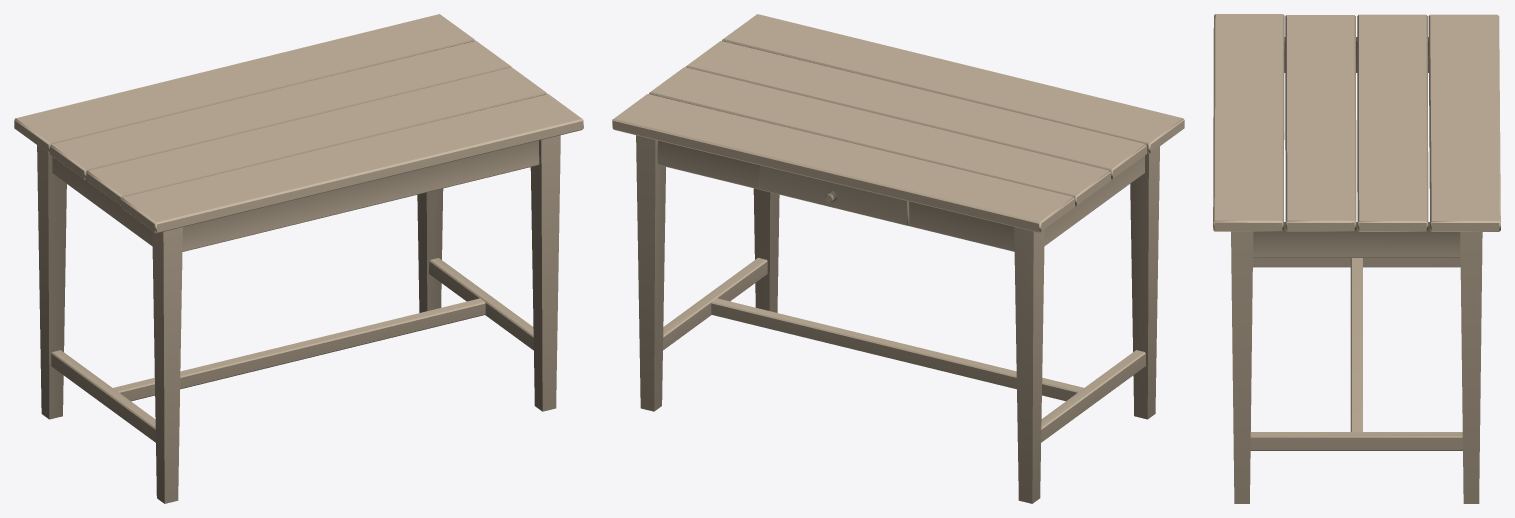
Rendered from table.glb.
The picture shows the model from 3 angles, left to right: view 1: azimuth 30°, elevation 25°; view 2: azimuth 150°, elevation 25°; view 3: azimuth 270°, elevation 25°; orthographic projection.
Parts seen in each view (by area): view 1: static; view 2: static; view 3: static.
Boxes of the visible parts, box(x1,y1,x2,y2) form: static: box(14, 14, 583, 503); static: box(612, 14, 1184, 503); static: box(1213, 14, 1500, 503).
Bounding box in the file's own units: 1.2 × 0.785 × 0.703.
